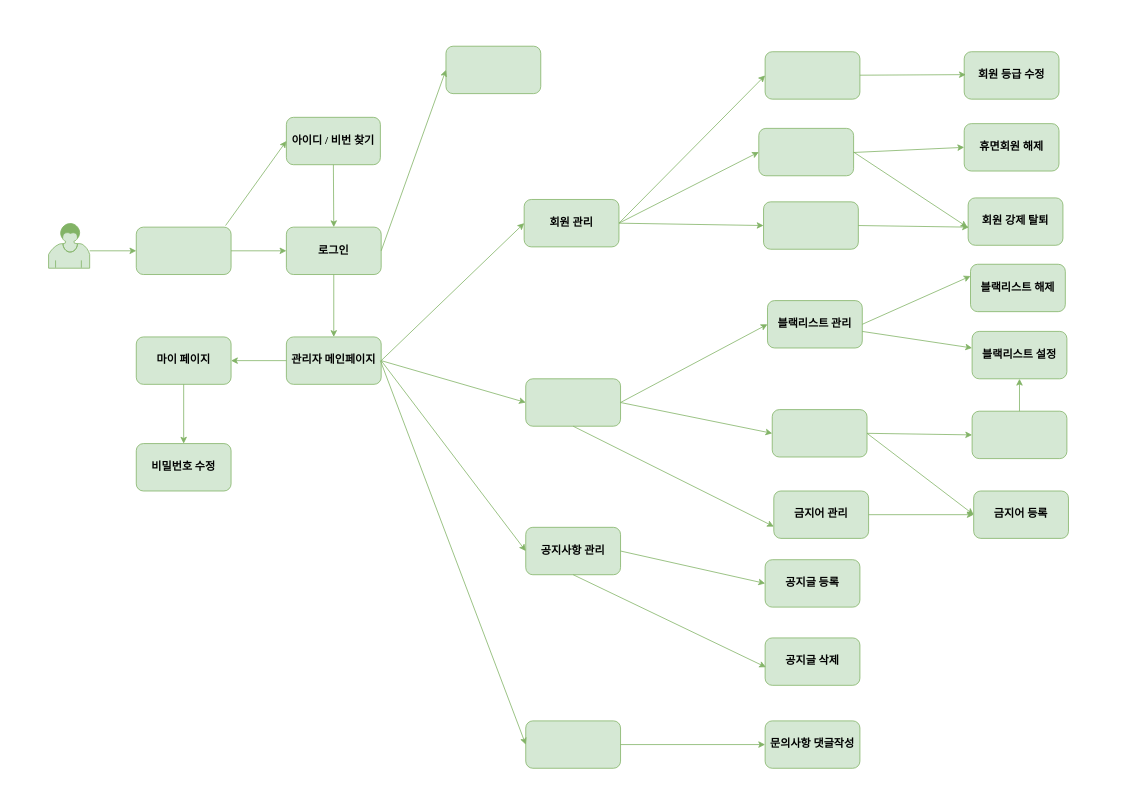
Some shapes in this 1143 by 807 pixel diagram are drawn without their labels. The shapes that lost their labels are listed below. From the top down, each one's centre as x and y in pixels, then its label:
At point 493,69: "로그아웃".
At point 812,75: "회원상태 관리".
At point 806,152: "휴면회원 관리".
At point 810,225: "회원 조회".
At point 183,250: "인트로 페이지".
At point 573,402: "신고 관리".
At point 819,433: "신고 처리".
At point 1019,434: "경고 주기".
At point 573,744: "문의사항 관리".
